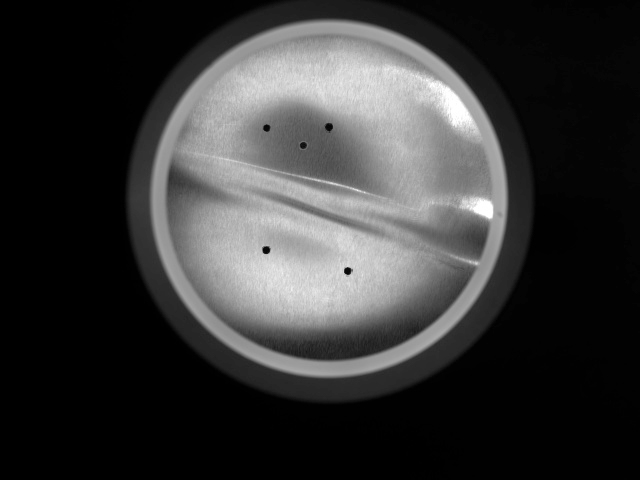zhe_zhou: (171, 131, 492, 280)
zhen_kong: (337, 259, 363, 285), (251, 237, 279, 261), (317, 114, 342, 139), (253, 115, 278, 139), (293, 135, 316, 160)
